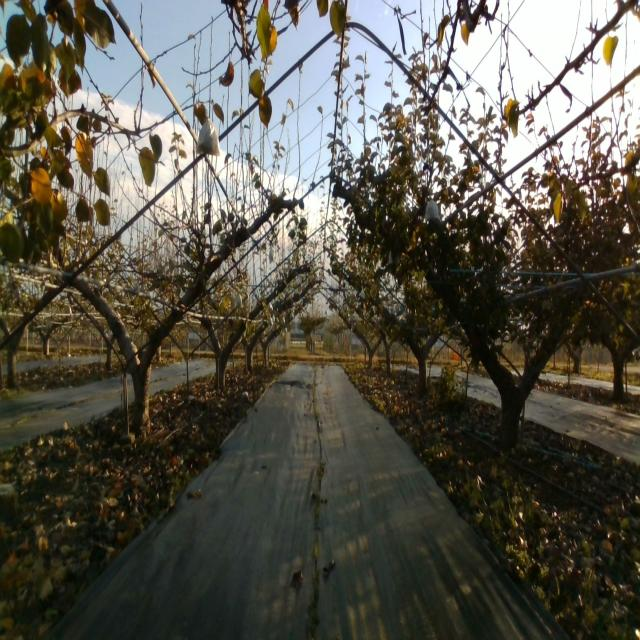pearbags: (196, 116, 221, 158), (424, 198, 440, 221)
